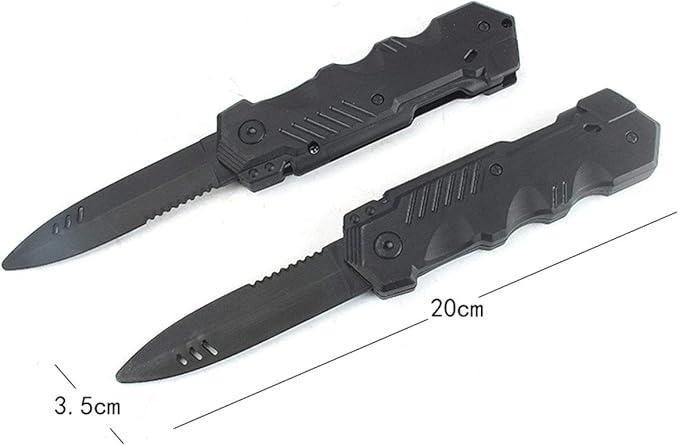Knife: (108, 86, 678, 397), (0, 0, 534, 273)
